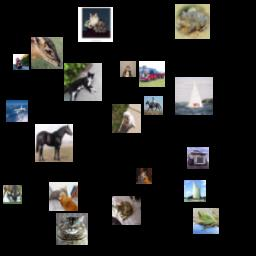airplane: (6, 100, 28, 122)
cat: (64, 63, 102, 101), (78, 7, 113, 42), (56, 213, 88, 245), (112, 196, 141, 225), (49, 182, 78, 211), (120, 61, 136, 77)
deer: (31, 37, 63, 69), (3, 185, 22, 204)
dog: (112, 104, 141, 133), (136, 168, 152, 184)
frog: (175, 4, 210, 39), (193, 208, 219, 234)
ship: (175, 77, 213, 115), (184, 180, 206, 202)
truck: (139, 61, 165, 87), (187, 147, 209, 169), (13, 54, 29, 70)
